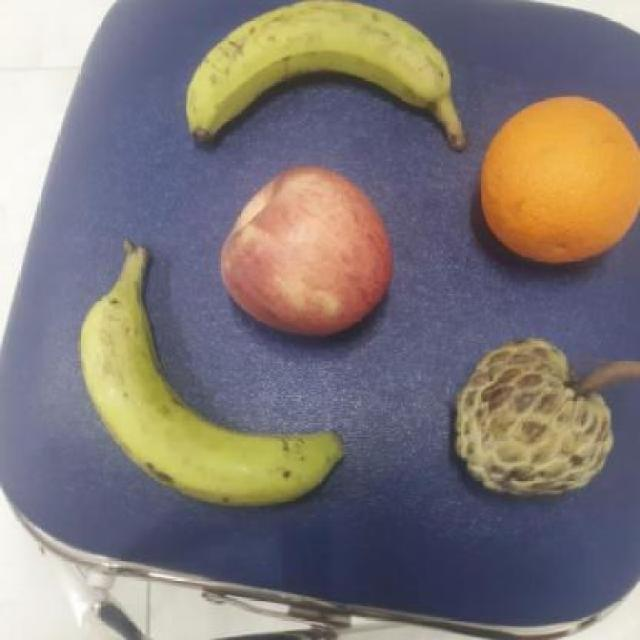apple: (211, 162, 398, 340)
banana: (74, 245, 348, 509), (184, 0, 460, 155)
oren: (470, 89, 639, 280)
sugar apple: (450, 339, 616, 499)
